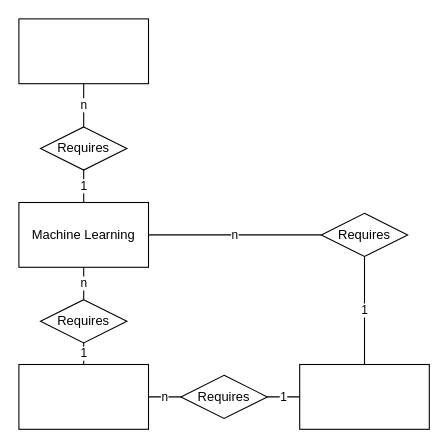
This 448x448 diagram has some shape labels left out. The centre of each missing label's shape, as x and y in pixels:
A Level Mathematics: (83,51)
Deep Learning: (83,396)
Image Classification: (364,396)
